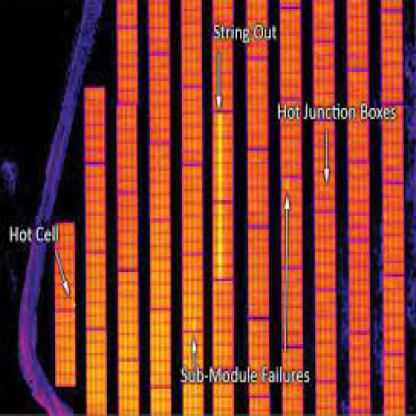Defects: (212, 110, 230, 281)
